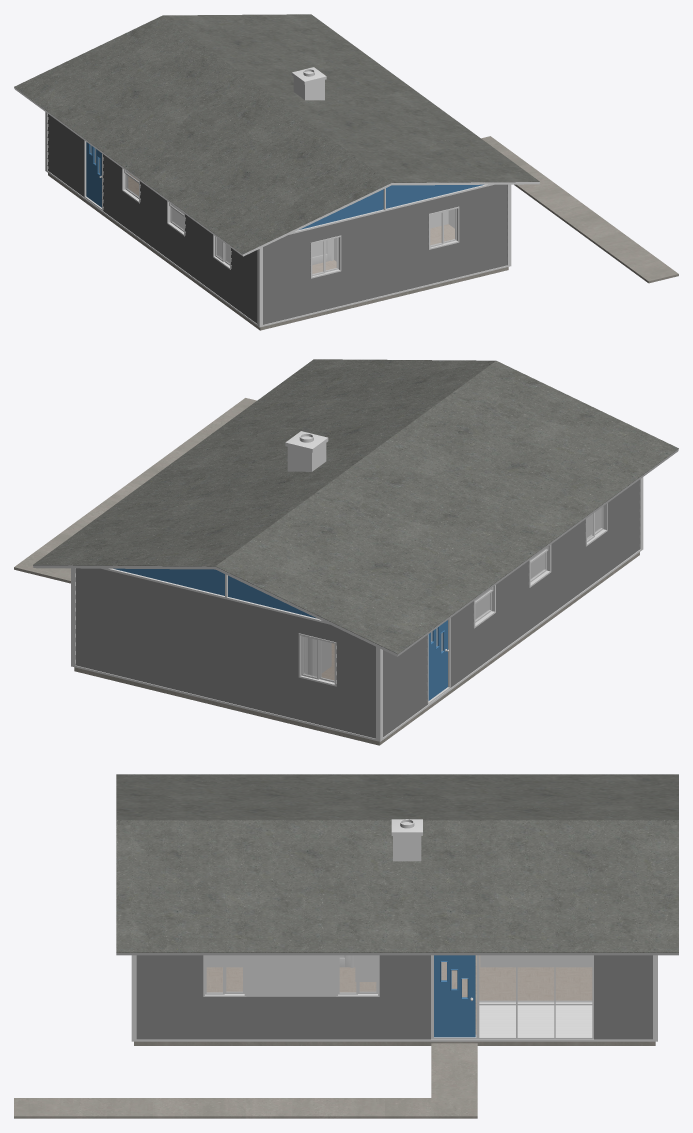
Rendered from casa_fleetwood.glb.
3 renders of one model, top to bottom at view 1: azimuth 30°, elevation 25°; view 2: azimuth 150°, elevation 25°; view 3: azimuth 270°, elevation 25°, orthographic. The views are drawn at different scales.
Visible parts, largest first — view 1: fw-50-roof, fw-50-siding_C, concreteTiles.001, fw-50-walls, fw-50-supportBeams, fw-50-foundation, fw-50-windowDouble.004, fw-50-windowDouble.002, fw-50-chimney, fw-50-doorFront_I.002; view 2: fw-50-roof, fw-50-siding_C, fw-50-supportBeams, fw-50-walls, concreteTiles.001, fw-50-foundation, fw-50-windowDouble.006, fw-50-chimney, fw-50-doorFront_I.002, fw-50-windowSingleSmall.002, fw-50-windowDouble.005, fw-50-windowSingleSmall.001; view 3: fw-50-roof, fw-50-siding_C, concreteTiles.001, fw-50-walls, windowLarge-triple-designB.006, fw-50-doorFront_I.001, fw-50-foundation, fw-50-supportBeams, fw-50-windowDouble.003, fw-50-windowDouble.001, fw-50-chimney.
Boxes of the visible parts, <box> form: fw-50-roof: <box>14,14,539,256</box>; fw-50-siding_C: <box>47,114,507,324</box>; concreteTiles.001: <box>481,136,678,283</box>; fw-50-walls: <box>128,173,483,273</box>; fw-50-supportBeams: <box>45,112,511,327</box>; fw-50-foundation: <box>48,173,508,330</box>; fw-50-windowDouble.004: <box>310,235,341,278</box>; fw-50-windowDouble.002: <box>428,206,459,249</box>; fw-50-chimney: <box>291,67,326,100</box>; fw-50-doorFront_I.002: <box>86,142,101,207</box>; fw-50-roof: <box>33,359,678,656</box>; fw-50-siding_C: <box>75,479,640,738</box>; fw-50-supportBeams: <box>71,477,643,741</box>; fw-50-walls: <box>113,509,599,679</box>; concreteTiles.001: <box>14,398,256,583</box>; fw-50-foundation: <box>74,552,639,745</box>; fw-50-windowDouble.006: <box>298,633,336,686</box>; fw-50-chimney: <box>285,431,328,471</box>; fw-50-doorFront_I.002: <box>428,620,448,700</box>; fw-50-windowSingleSmall.002: <box>528,544,551,587</box>; fw-50-windowDouble.005: <box>585,503,607,546</box>; fw-50-windowSingleSmall.001: <box>473,585,495,628</box>; fw-50-roof: <box>116,774,678,955</box>; fw-50-siding_C: <box>136,955,652,1039</box>; concreteTiles.001: <box>14,1043,477,1118</box>; fw-50-walls: <box>207,955,591,1034</box>; windowLarge-triple-designB.006: <box>431,955,593,1039</box>; fw-50-doorFront_I.001: <box>434,955,475,1037</box>; fw-50-foundation: <box>134,1041,655,1045</box>; fw-50-supportBeams: <box>131,955,657,1041</box>; fw-50-windowDouble.003: <box>336,955,379,996</box>; fw-50-windowDouble.001: <box>203,955,246,996</box>; fw-50-chimney: <box>391,819,422,861</box>.
Size of the model in its own units: 12.19 by 4.1 by 14.47.
11 materials, 4 textured.
